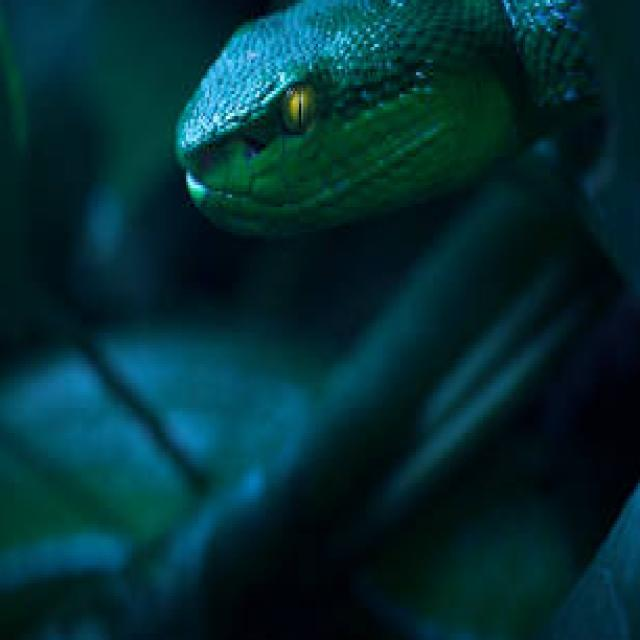Snake: (172, 0, 606, 245)
